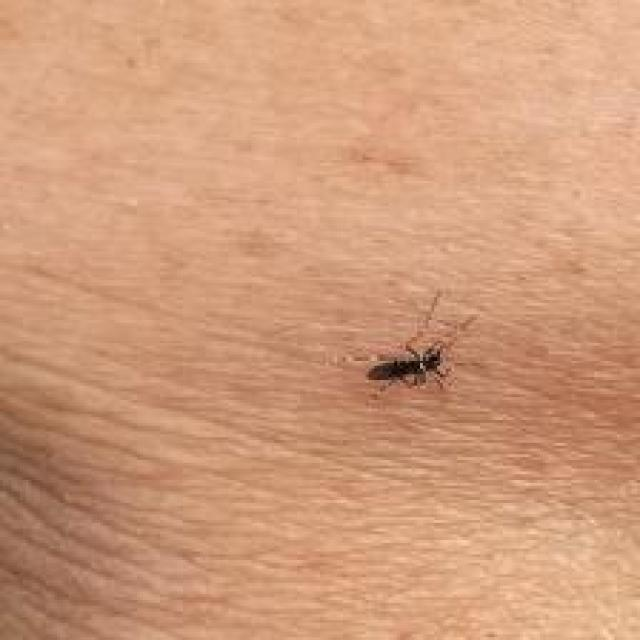Aedes albopictus: (366, 337, 451, 392)
